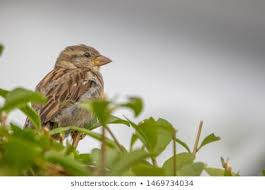home_sparrow: (21, 41, 119, 149)
